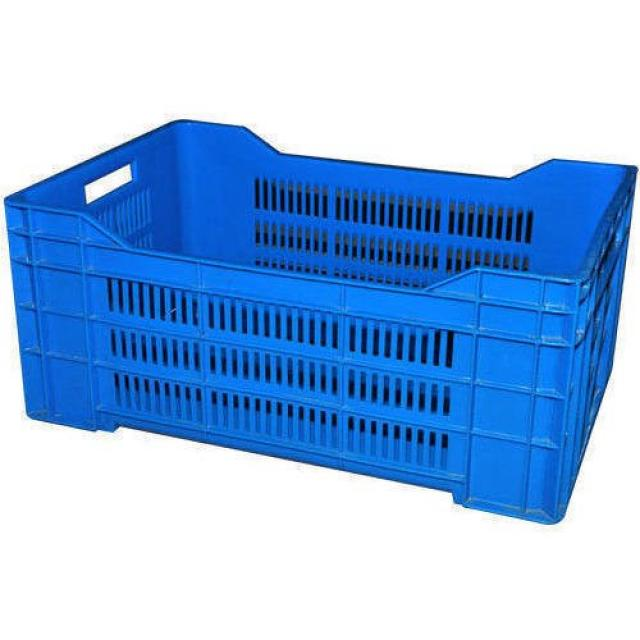basket: (0, 88, 640, 529)
